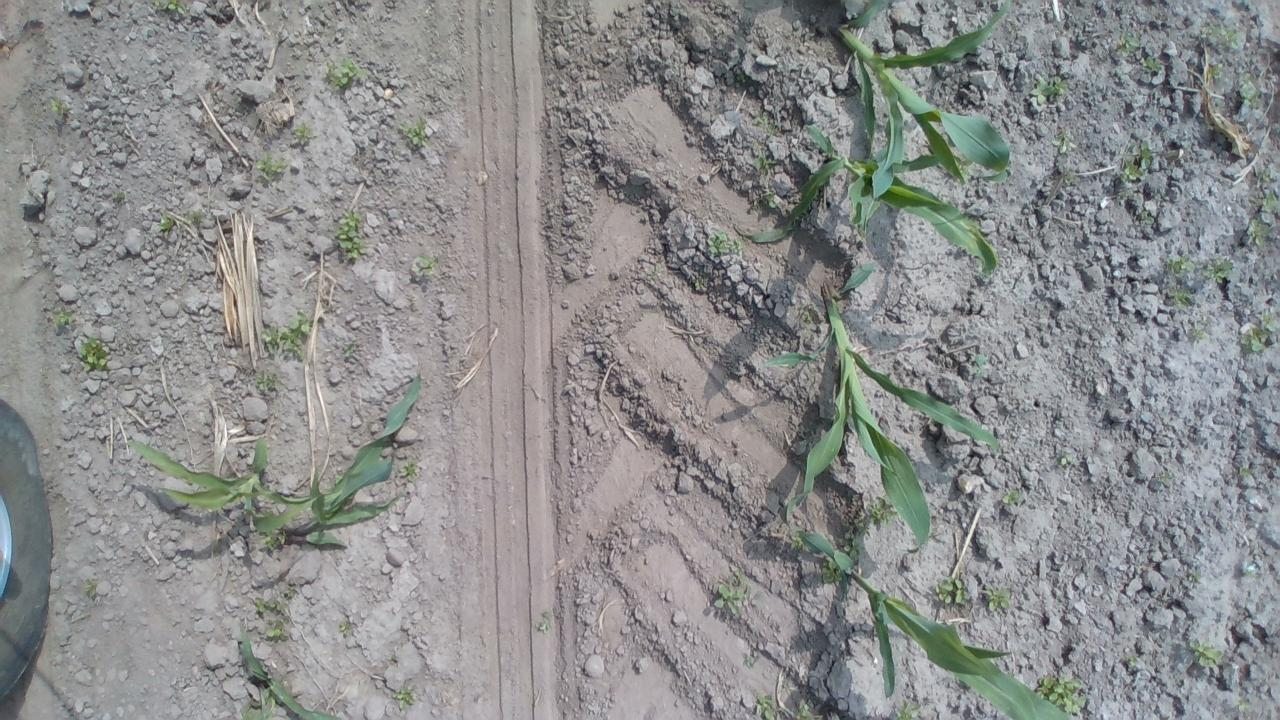Maize: (761, 263, 1004, 548), (792, 524, 1072, 720), (128, 373, 420, 551), (731, 124, 1000, 282), (828, 0, 1014, 197), (236, 627, 342, 720)
Weeds: (258, 307, 312, 362), (1033, 670, 1086, 715), (712, 568, 752, 618), (336, 208, 370, 262), (322, 56, 371, 92), (854, 496, 898, 536), (1240, 310, 1280, 354), (254, 596, 289, 640), (1120, 143, 1152, 185), (78, 334, 112, 371), (254, 148, 289, 182), (932, 575, 970, 605), (45, 302, 77, 335), (1200, 254, 1234, 285), (1030, 78, 1068, 105), (1248, 218, 1280, 249), (398, 113, 428, 146), (1238, 72, 1264, 109), (839, 524, 864, 562), (1188, 639, 1224, 665), (706, 230, 742, 255), (1206, 25, 1242, 49), (411, 253, 442, 279), (1248, 190, 1280, 215), (890, 698, 926, 720), (820, 558, 850, 584), (149, 0, 192, 18), (1167, 286, 1196, 312), (255, 368, 282, 393), (290, 122, 318, 146), (1166, 253, 1194, 277), (754, 691, 777, 720), (752, 113, 779, 136), (986, 584, 1010, 609), (754, 156, 780, 178), (259, 528, 287, 548), (399, 456, 420, 482), (44, 95, 72, 114), (393, 688, 417, 710), (158, 209, 175, 240), (970, 354, 989, 380), (1190, 317, 1212, 339), (752, 192, 777, 210), (1054, 132, 1074, 154), (1120, 30, 1138, 54), (342, 334, 356, 363), (1000, 488, 1021, 507), (796, 704, 819, 720), (534, 612, 552, 632), (788, 526, 804, 548), (1140, 57, 1163, 72), (799, 305, 818, 323), (1204, 62, 1224, 78), (1058, 447, 1074, 467), (645, 263, 662, 281), (282, 582, 298, 600), (1138, 210, 1156, 225), (84, 576, 96, 598), (734, 71, 751, 86), (1232, 698, 1250, 712), (184, 210, 203, 223), (1238, 466, 1256, 478), (339, 621, 353, 636), (1155, 470, 1170, 484), (690, 276, 704, 288), (1065, 166, 1074, 184), (1123, 654, 1136, 666), (745, 656, 758, 668), (1261, 170, 1272, 182), (1118, 190, 1134, 198), (1190, 572, 1201, 583), (1242, 571, 1256, 577), (634, 185, 642, 193)
